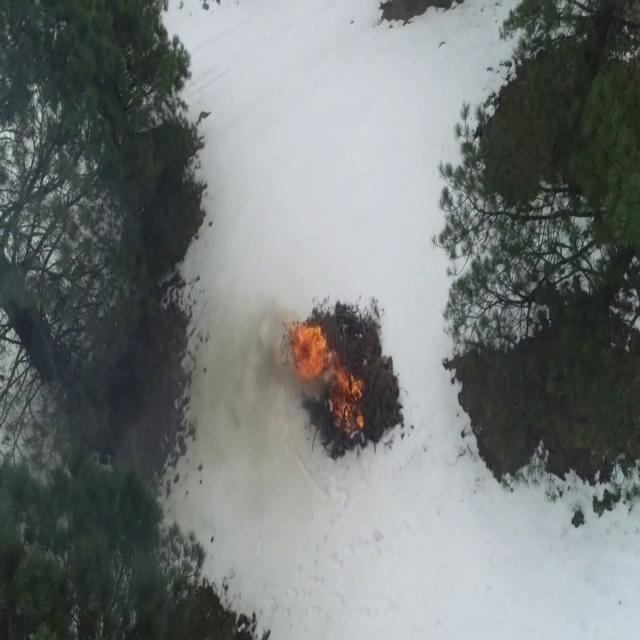fire: (295, 324, 329, 384), (336, 372, 364, 436)
